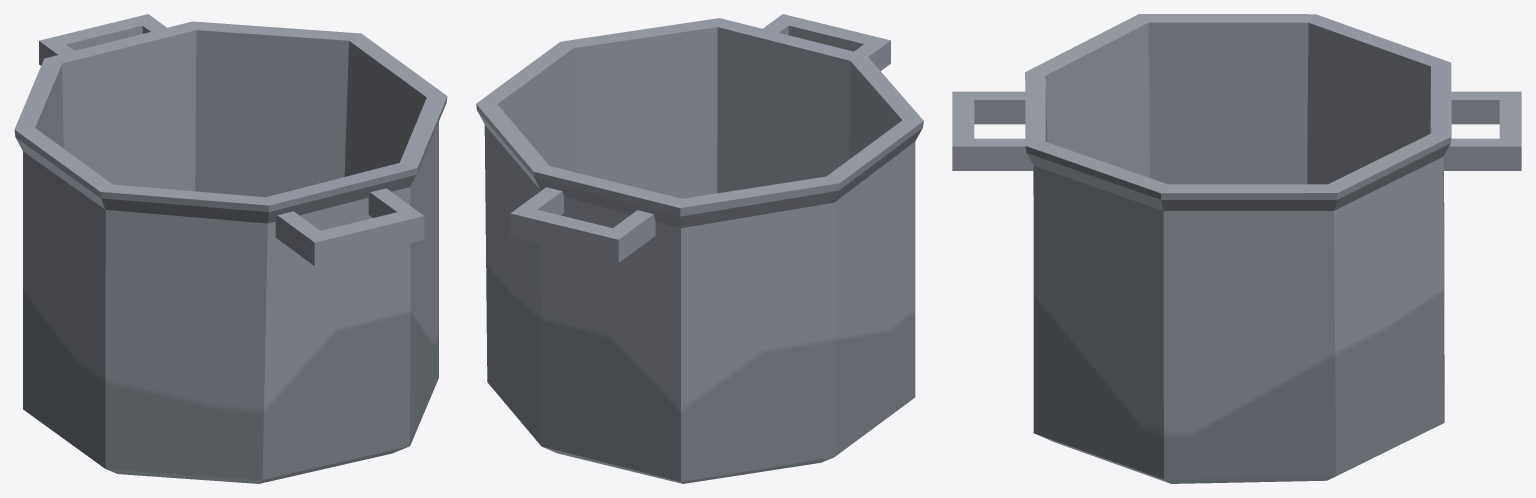
File: SM_Prop_Pot_03.glb
3 renders of one model, left to right at view 1: azimuth 30°, elevation 25°; view 2: azimuth 150°, elevation 25°; view 3: azimuth 270°, elevation 25°, orthographic. The views are drawn at different scales.
Visible parts, largest first — view 1: SM_Prop_Pot_03; view 2: SM_Prop_Pot_03; view 3: SM_Prop_Pot_03.
Part boxes in pixels (box(x1,y1,x2,y2)): SM_Prop_Pot_03: box(14, 14, 447, 483); SM_Prop_Pot_03: box(476, 14, 923, 483); SM_Prop_Pot_03: box(952, 14, 1521, 483).
Size of the model in its own units: 0.6086 by 0.4776 by 0.8126.
Materials: 1 (1 with a texture image).
